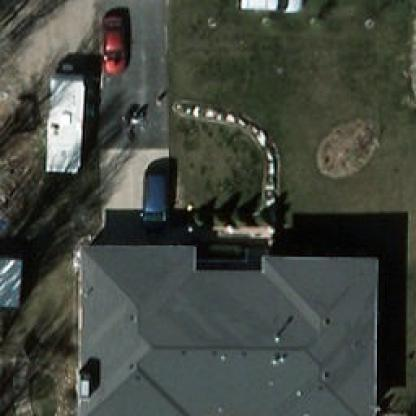camping car: (40, 62, 84, 174)
car: (138, 169, 169, 237), (101, 14, 128, 74)
